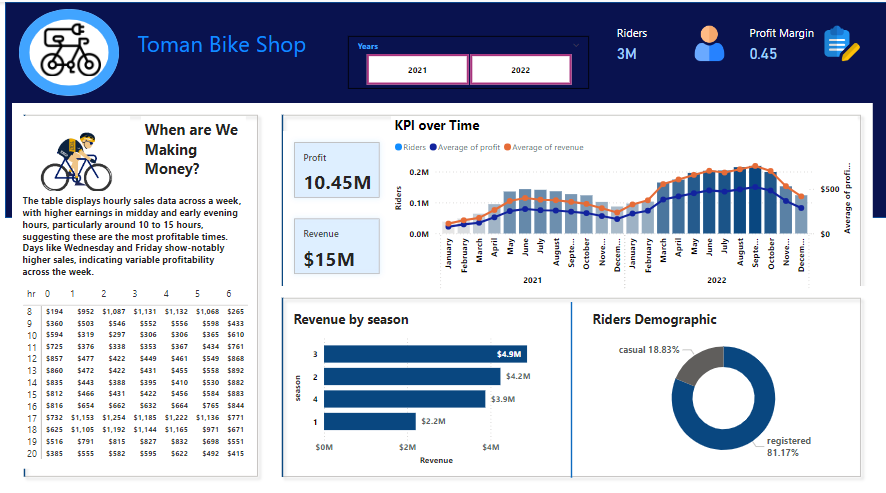

The page's visual inventory and layout, read from the dashboard file:
{"tool":"powerbi","page":{"name":"Page 1","canvas":[1280,720],"ordinal":0},"visuals":[{"type":"shape","box":[10.1,0,1270.1,311],"z":0},{"type":"cardVisual","fields":{"Data":["Min(Query1.riders)"]},"box":[20.2,145.4,371.5,555.8],"z":1000},{"type":"cardVisual","fields":{"Data":["Min(Query1.riders)"]},"box":[391.7,145.4,868.3,286.6],"z":2000},{"type":"cardVisual","fields":{"Data":["Min(Query1.riders)"]},"box":[391.7,409,868.3,292.3],"z":3000},{"type":"cardVisual","fields":{"Data":["Min(Query1.riders)"]},"box":[30.2,164.2,159.8,125.3],"z":4000},{"type":"pivotTable","fields":{"Values":["Avg(Query1.revenue)"],"Columns":["Query1.weekday"],"Rows":["Query1.hr"]},"box":[31.7,406.1,337,266.4],"z":5000},{"type":"textbox","box":[205.9,164.2,151.2,108],"z":6000},{"type":"textbox","box":[30.2,272.2,328.3,136.8],"z":7000},{"type":"lineClusteredColumnComboChart","title":"KPI over Time","fields":{"Category":["Query1.dteday.Variation.Date Hierarchy.Year","Query1.dteday.Variation.Date Hierarchy.Month","Query1.dteday.Variation.Date Hierarchy.Day"],"Y":["Sum(Query1.riders)"],"Y2":["Avg(Query1.profit)","Avg(Query1.revenue)"]},"box":[565.9,164.2,672.5,259.2],"z":8000},{"type":"clusteredBarChart","fields":{"Category":["Query1.season"],"Y":["Sum(Query1.revenue)"]},"box":[420.5,443.5,390.2,229],"z":9000},{"type":"donutChart","title":"Riders Demographic ","fields":{"Y":["Sum(Query1.riders)"],"Category":["Query1.rider_type"]},"box":[851,443.5,387.4,229],"z":10000},{"type":"shape","box":[675.4,432,301,253.4],"z":11000},{"type":"cardVisual","title":"KPI over Time","fields":{"Data":["Sum(Query1.profit)","Sum(Query1.revenue)"]},"box":[410.4,185.8,155.5,223.2],"z":12000},{"type":"cardVisual","fields":{"Data":["Sum(Query1.riders)","Query1.Profit Margin"]},"box":[874.1,10.1,385.9,99.4],"z":13000},{"type":"shape","box":[30.2,10.1,144,125.3],"z":14000},{"type":"textbox","box":[195.8,31.7,280.8,56.2],"z":15000},{"type":"cardVisual","fields":{"Data":["Min(Query1.riders)"]},"box":[40.3,8.6,133.9,103.7],"z":16000},{"type":"slicer","fields":{"Values":["Query1.Years"]},"box":[504,49,347,76.3],"z":17000}]}

Visuals, with their boxes in screenshot pixels (x1, y1, x2, y2), scaled from the page's 1280x720 canvas onto the 886x493 screenshot:
shape: x1=7, y1=0, x2=885, y2=213
cardVisual - Min(Query1.riders): x1=14, y1=100, x2=271, y2=480
cardVisual - Min(Query1.riders): x1=271, y1=100, x2=872, y2=296
cardVisual - Min(Query1.riders): x1=271, y1=280, x2=872, y2=480
cardVisual - Min(Query1.riders): x1=21, y1=112, x2=132, y2=198
pivotTable - Avg(Query1.revenue) x Query1.weekday: x1=22, y1=278, x2=255, y2=460
textbox: x1=143, y1=112, x2=247, y2=186
textbox: x1=21, y1=186, x2=248, y2=280
"KPI over Time" lineClusteredColumnComboChart: x1=392, y1=112, x2=857, y2=290
clusteredBarChart - Query1.season x Sum(Query1.revenue): x1=291, y1=304, x2=561, y2=460
"Riders Demographic " donutChart: x1=589, y1=304, x2=857, y2=460
shape: x1=468, y1=296, x2=676, y2=469
"KPI over Time" cardVisual: x1=284, y1=127, x2=392, y2=280
cardVisual - Sum(Query1.riders) x Query1.Profit Margin: x1=605, y1=7, x2=872, y2=75
shape: x1=21, y1=7, x2=121, y2=93
textbox: x1=136, y1=22, x2=330, y2=60
cardVisual - Min(Query1.riders): x1=28, y1=6, x2=121, y2=77
slicer - Query1.Years: x1=349, y1=34, x2=589, y2=86
